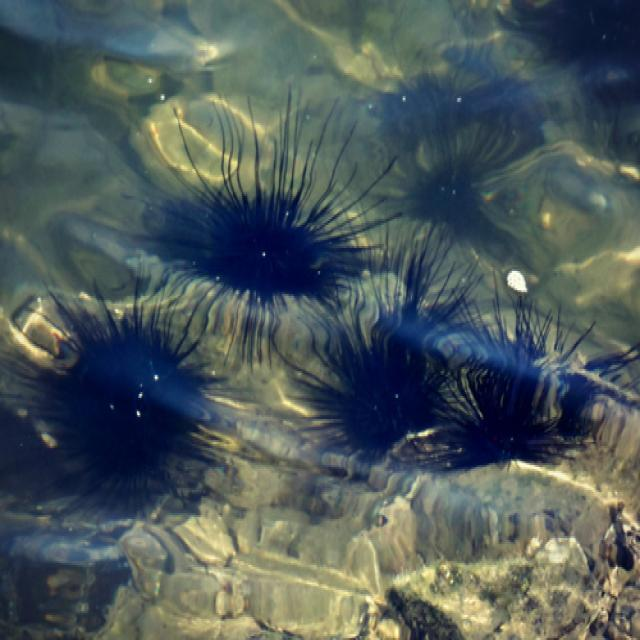Urchin: (136, 90, 382, 300), (35, 288, 225, 519), (422, 311, 628, 477), (308, 265, 459, 467)
